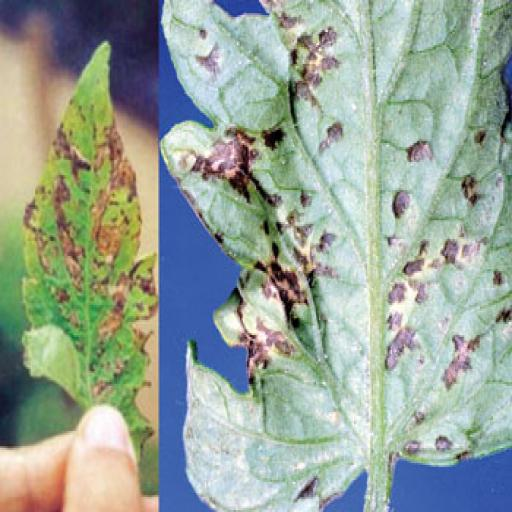Bacterial Spot: (161, 0, 512, 512), (16, 34, 158, 406)
